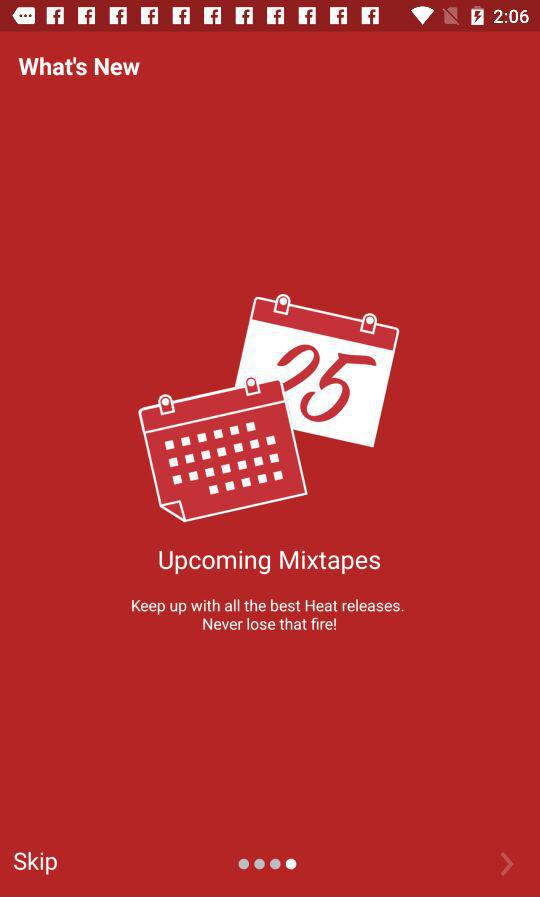Icon: (498, 851, 516, 878)
Image: (135, 293, 400, 524)
PageIndicator: (237, 856, 299, 872)
Text: (131, 598, 405, 632), (158, 549, 382, 577), (18, 56, 142, 77), (13, 850, 60, 877)
UpperTaskBar: (1, 1, 540, 33)
